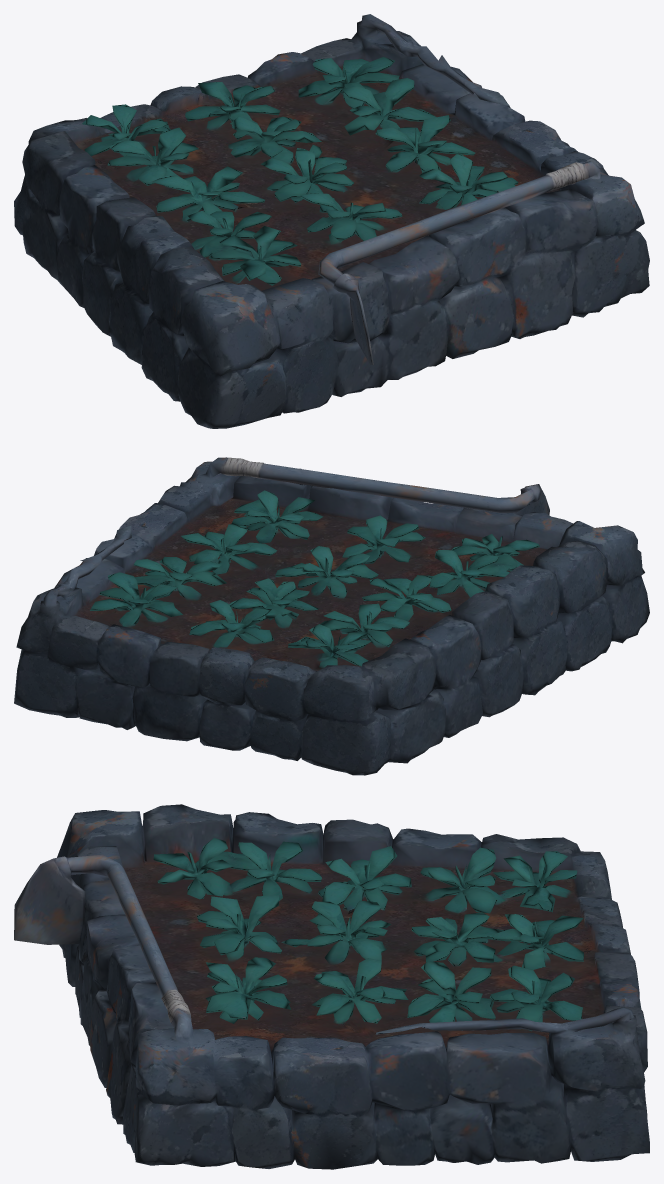
Rendered from potato.glb.
3 renders of one model, top to bottom at view 1: azimuth 30°, elevation 25°; view 2: azimuth 150°, elevation 25°; view 3: azimuth 270°, elevation 25°, orthographic. The views are drawn at different scales.
Parts seen in each view (by area): view 1: tripo_node_a3319f8a-a80b-4499-a5d3-eda29cd7ebf2; view 2: tripo_node_a3319f8a-a80b-4499-a5d3-eda29cd7ebf2; view 3: tripo_node_a3319f8a-a80b-4499-a5d3-eda29cd7ebf2.
Part boxes in pixels (bbox=[...]): tripo_node_a3319f8a-a80b-4499-a5d3-eda29cd7ebf2: bbox=[14, 14, 649, 428]; tripo_node_a3319f8a-a80b-4499-a5d3-eda29cd7ebf2: bbox=[14, 457, 649, 775]; tripo_node_a3319f8a-a80b-4499-a5d3-eda29cd7ebf2: bbox=[14, 804, 649, 1169].
Size of the model in its own units: 1.12 by 0.3 by 1.21.
1 material, 1 textured.
